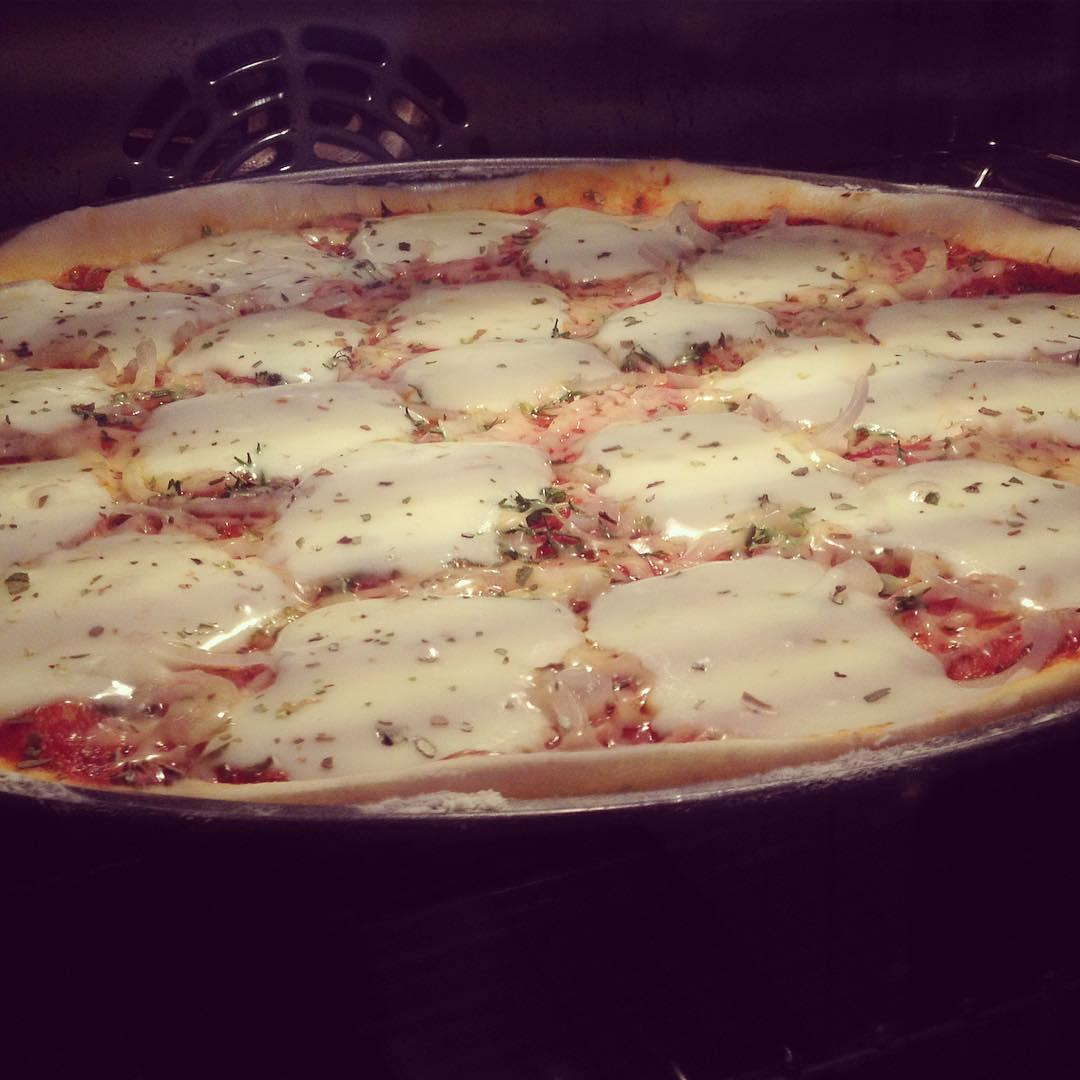Cheese: (631, 568, 921, 721), (277, 606, 553, 762), (0, 560, 267, 688), (281, 451, 537, 571), (867, 468, 1080, 605), (145, 381, 388, 467), (608, 420, 791, 514), (852, 355, 1080, 428), (0, 291, 199, 348), (877, 300, 1080, 355), (712, 229, 885, 291), (414, 339, 586, 396), (538, 212, 685, 272), (0, 467, 93, 559), (404, 290, 578, 339), (164, 240, 324, 291), (199, 314, 338, 371), (744, 340, 852, 410), (362, 215, 524, 257), (620, 302, 748, 349), (0, 373, 109, 423)
Pizza: (0, 163, 1080, 813)
